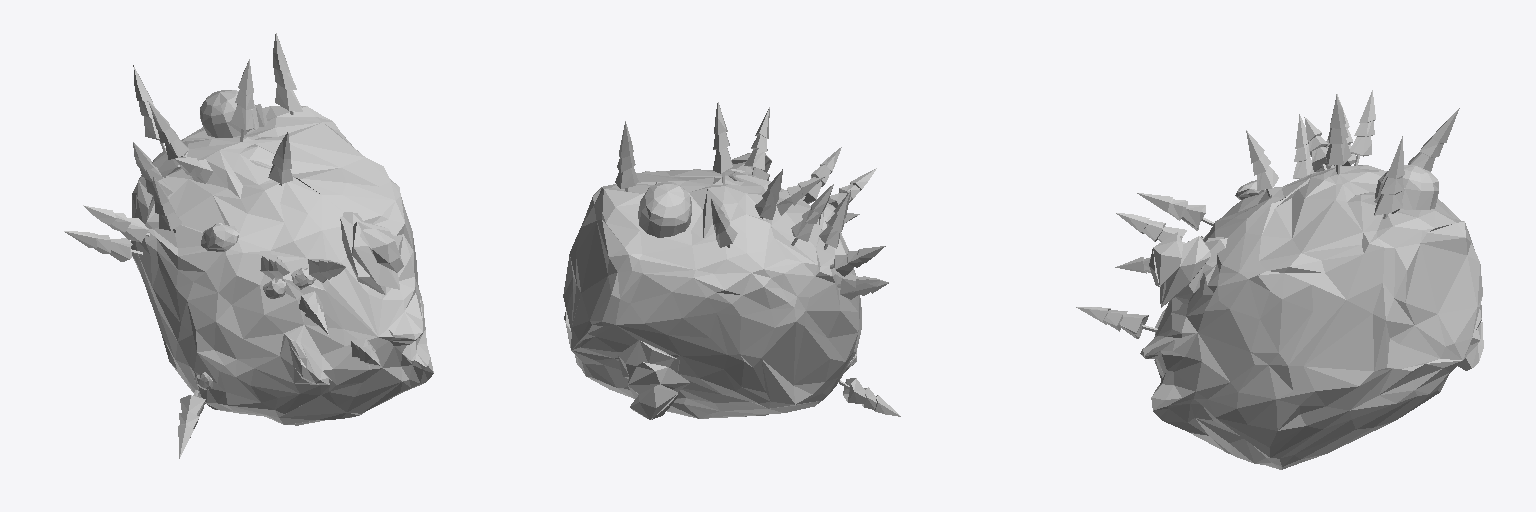
Rendered from Planet Pine.obj.
3 views of the same model, side by side, from view 1: azimuth 30°, elevation 25°; view 2: azimuth 150°, elevation 25°; view 3: azimuth 270°, elevation 25° (orthographic).
Visible parts, largest first — view 1: Box006_Mesh.016; view 2: Box006_Mesh.016; view 3: Box006_Mesh.016.
Part boxes in pixels (left/top/right/bottom): Box006_Mesh.016: left=64, top=33, right=433, bottom=458; Box006_Mesh.016: left=563, top=102, right=900, bottom=419; Box006_Mesh.016: left=1076, top=90, right=1483, bottom=469.
Size of the model in its own units: 21.1 by 21.94 by 23.7.